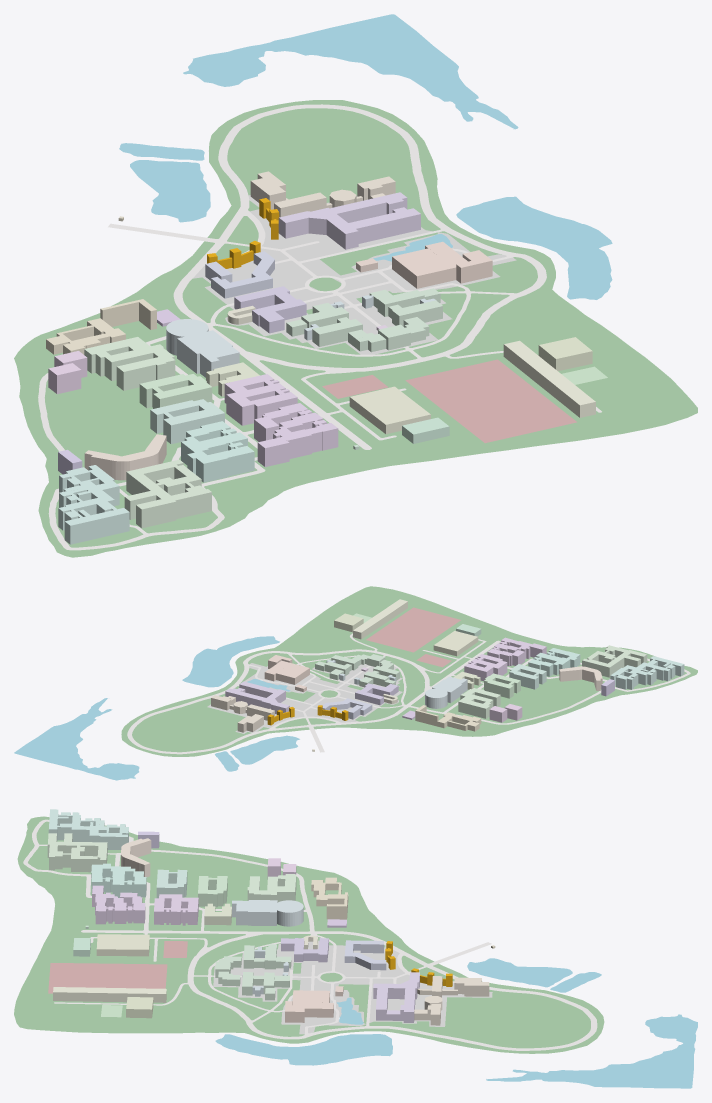
Rendered from school.glb.
The picture shows the model from 3 angles, top to bottom: view 1: azimuth 30°, elevation 25°; view 2: azimuth 150°, elevation 25°; view 3: azimuth 270°, elevation 25°; orthographic projection. The views are drawn at different scales.
Visible parts, largest first — view 1: 绿地, 河流, 道路, 广场, 操场, 教学楼, 综合楼, 学生公寓G, 学生公寓H, 学生公寓E, 图书馆, 学生公寓F (+18 smaller); view 2: 绿地, 河流, 道路, 广场, 操场, 教学楼, 学生公寓H, 学生公寓G, 综合楼, 软件学院, 学生公寓E, 图书馆 (+15 smaller); view 3: 绿地, 河流, 道路, 广场, 操场, 教学楼, 学生公寓H, 熹园, 学生公寓G, 学生公寓E, 软件学院, 综合楼 (+15 smaller).
Part boxes in pixels (x1=…): 绿地: x1=14, y1=100, x2=697, y2=557; 河流: x1=119, y1=14, x2=612, y2=299; 道路: x1=38, y1=104, x2=601, y2=550; 广场: x1=193, y1=195, x2=516, y2=354; 操场: x1=405, y1=359, x2=576, y2=443; 教学楼: x1=286, y1=288, x2=442, y2=352; 综合楼: x1=278, y1=192, x2=420, y2=249; 学生公寓G: x1=124, y1=459, x2=211, y2=528; 学生公寓H: x1=58, y1=465, x2=129, y2=544; 学生公寓E: x1=254, y1=403, x2=338, y2=466; 图书馆: x1=356, y1=241, x2=492, y2=288; 学生公寓F: x1=181, y1=421, x2=254, y2=482; 绿地: x1=121, y1=586, x2=697, y2=756; 河流: x1=14, y1=636, x2=299, y2=780; 道路: x1=127, y1=633, x2=690, y2=754; 广场: x1=207, y1=663, x2=402, y2=733; 操场: x1=366, y1=607, x2=460, y2=652; 教学楼: x1=315, y1=654, x2=399, y2=687; 学生公寓H: x1=610, y1=656, x2=684, y2=689; 学生公寓G: x1=582, y1=645, x2=647, y2=677; 综合楼: x1=225, y1=681, x2=289, y2=714; 软件学院: x1=211, y1=695, x2=274, y2=732; 学生公寓E: x1=487, y1=637, x2=546, y2=665; 图书馆: x1=264, y1=655, x2=309, y2=692; 绿地: x1=14, y1=816, x2=604, y2=1053; 河流: x1=215, y1=958, x2=697, y2=1088; 道路: x1=23, y1=819, x2=597, y2=1050; 广场: x1=213, y1=940, x2=492, y2=1034; 操场: x1=48, y1=963, x2=167, y2=993; 教学楼: x1=215, y1=944, x2=291, y2=1000; 学生公寓H: x1=48, y1=809, x2=128, y2=849; 熹园: x1=232, y1=900, x2=303, y2=926; 学生公寓G: x1=47, y1=833, x2=107, y2=872; 学生公寓E: x1=92, y1=885, x2=145, y2=924; 软件学院: x1=414, y1=976, x2=489, y2=1025; 综合楼: x1=373, y1=972, x2=419, y2=1022.
Bounding box in the file's own units: 841 × 20 × 893.
